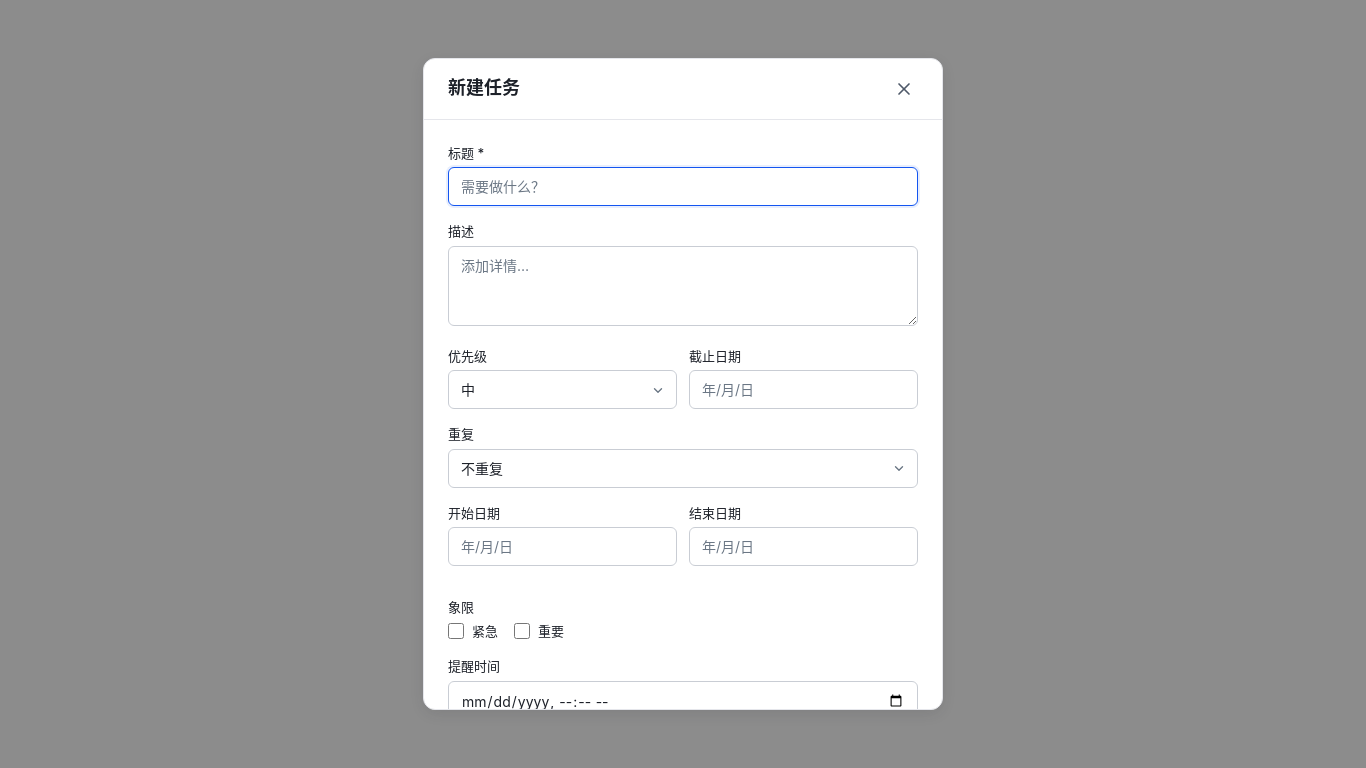
TaskForm › validation › blocks submission when recurrence is set without due_date or start_date
This screenshot has width=1366, height=768.
Type "Test" into the field with test id "task-form-title" at coordinates (683, 187), box left=448, top=167, right=918, bottom=206
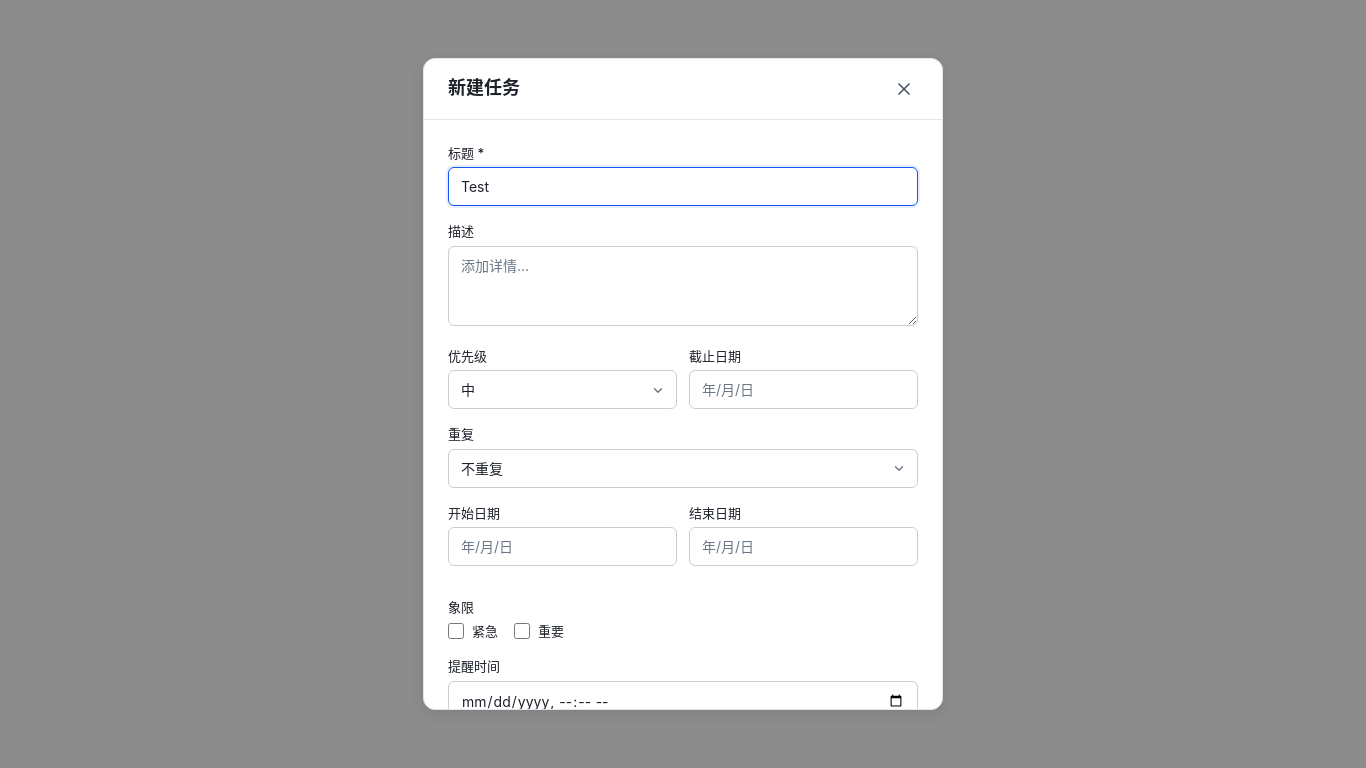
Select "每天" in the dropdown with test id "task-form-recurrence" at coordinates (683, 468), box left=448, top=449, right=918, bottom=488
(page scrolled)
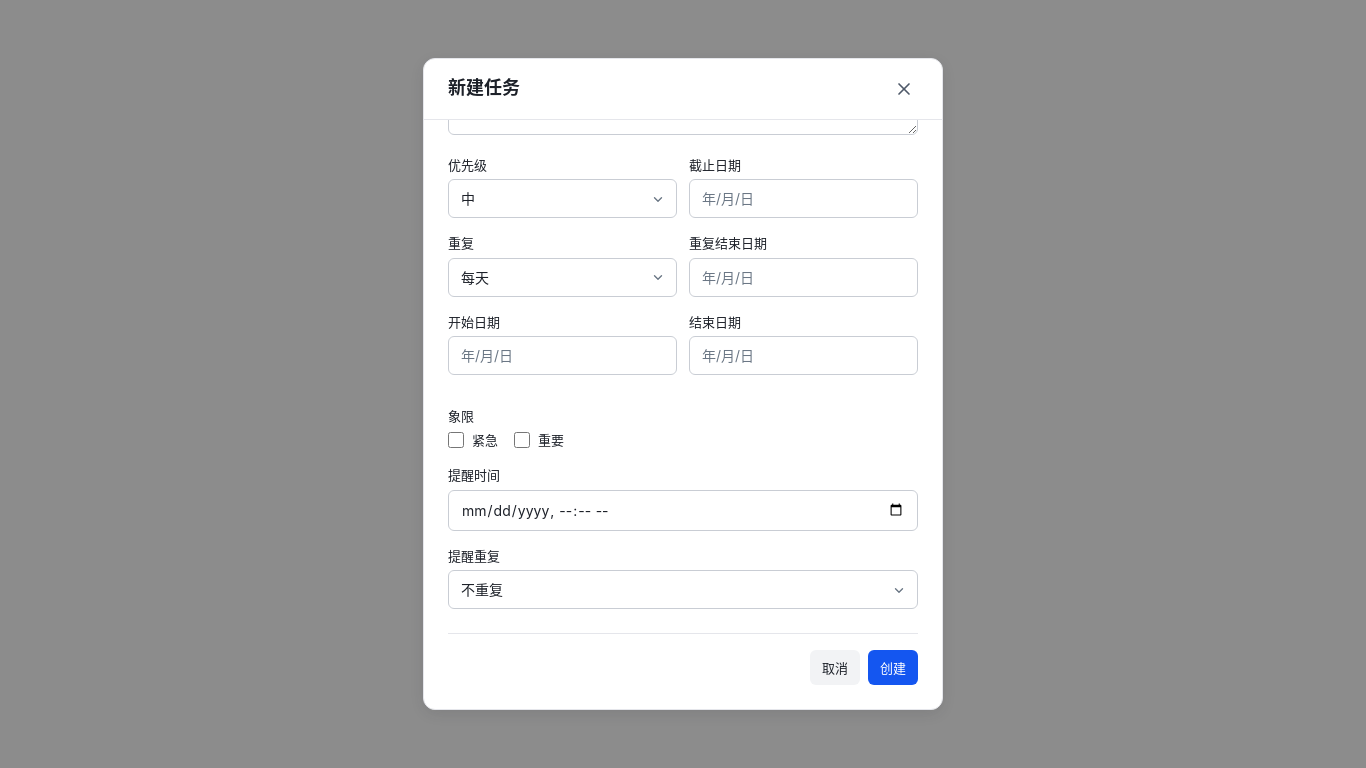
Click the button with test id "task-form-save" at coordinates (893, 668), box left=868, top=650, right=918, bottom=685
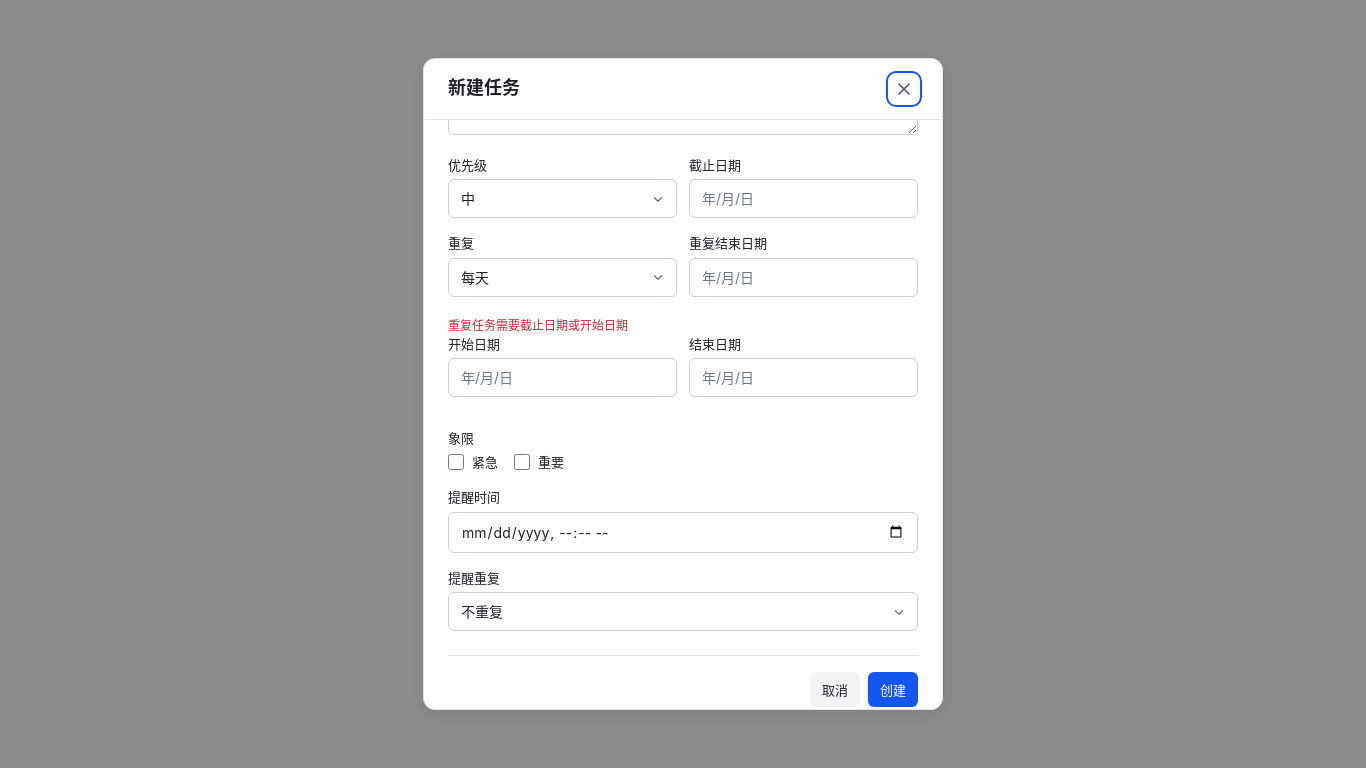
Now the message with test id "task-form-recurrence-error" reads "重复任务需要截止日期或开始日期", box left=448, top=318, right=628, bottom=333
